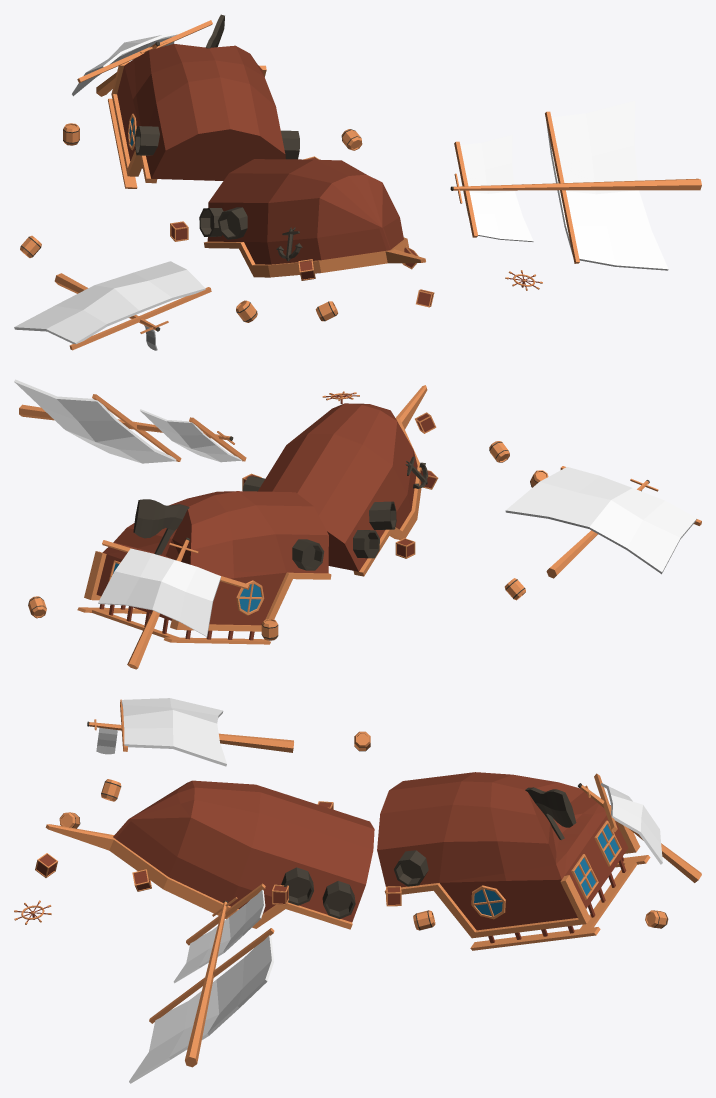
The model's file is Broken_Ship_Model.fbx.
3 renders of one model, top to bottom at view 1: azimuth 30°, elevation 25°; view 2: azimuth 150°, elevation 25°; view 3: azimuth 270°, elevation 25°, orthographic. The views are drawn at different scales.
Parts seen in each view (by area): view 1: polySurface36; view 2: polySurface36; view 3: polySurface36.
Part boxes in pixels (x1,y1,x2,y2): polySurface36: [14, 14, 701, 350]; polySurface36: [14, 379, 701, 669]; polySurface36: [14, 698, 701, 1083].
Size of the model in its own units: 34.95 by 8.07 by 29.69.
